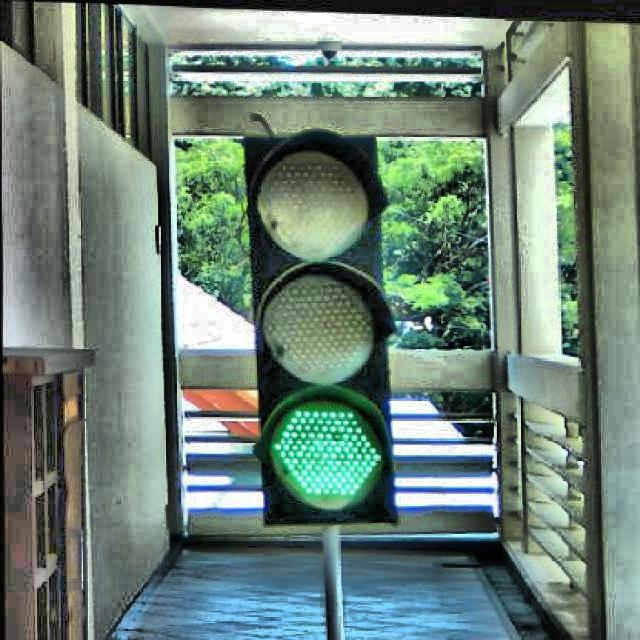green: (236, 138, 402, 526)
